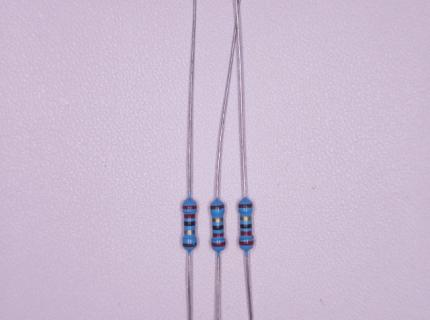Black band: (241, 223, 252, 229), (184, 221, 196, 226), (212, 225, 223, 230)
Brown band: (239, 203, 253, 208), (183, 242, 196, 247), (211, 205, 224, 210)
Gold band: (212, 217, 223, 223), (184, 229, 195, 234), (240, 216, 251, 221)
Red band: (212, 241, 225, 247), (239, 241, 254, 246), (183, 206, 197, 210), (184, 214, 195, 219), (212, 232, 223, 237), (240, 231, 251, 236)
